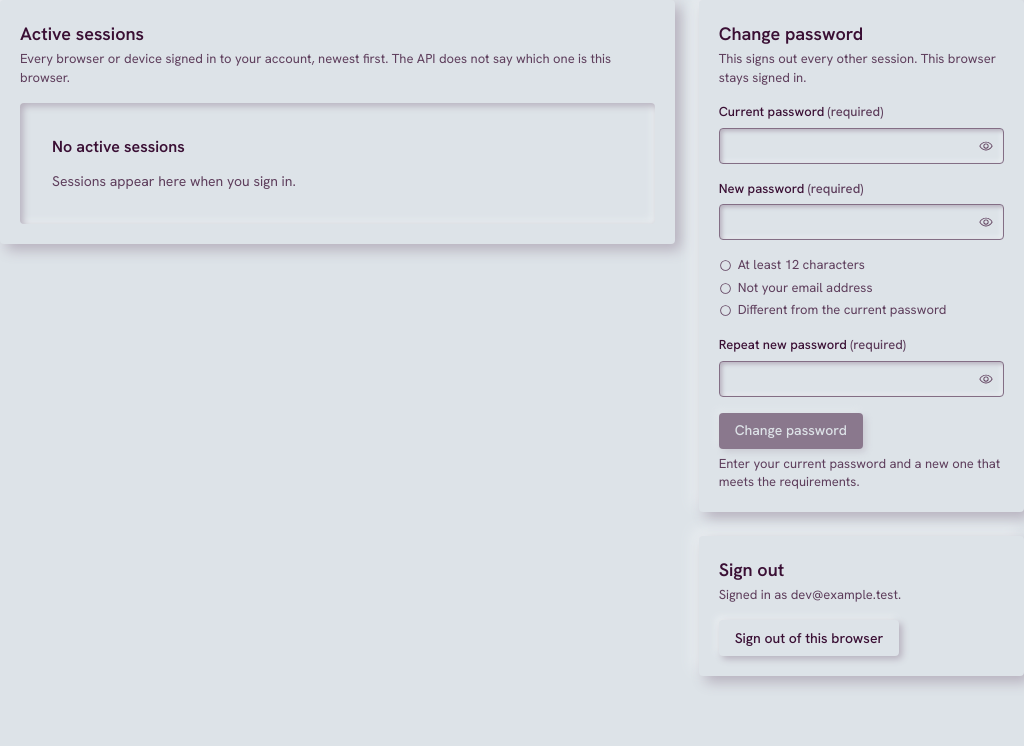
Change password › clears the fields and says other sessions ended on success
Type "old-password-1" into the password field labelled "Current password (required)" at point(861, 146), box [719, 128, 1004, 164]
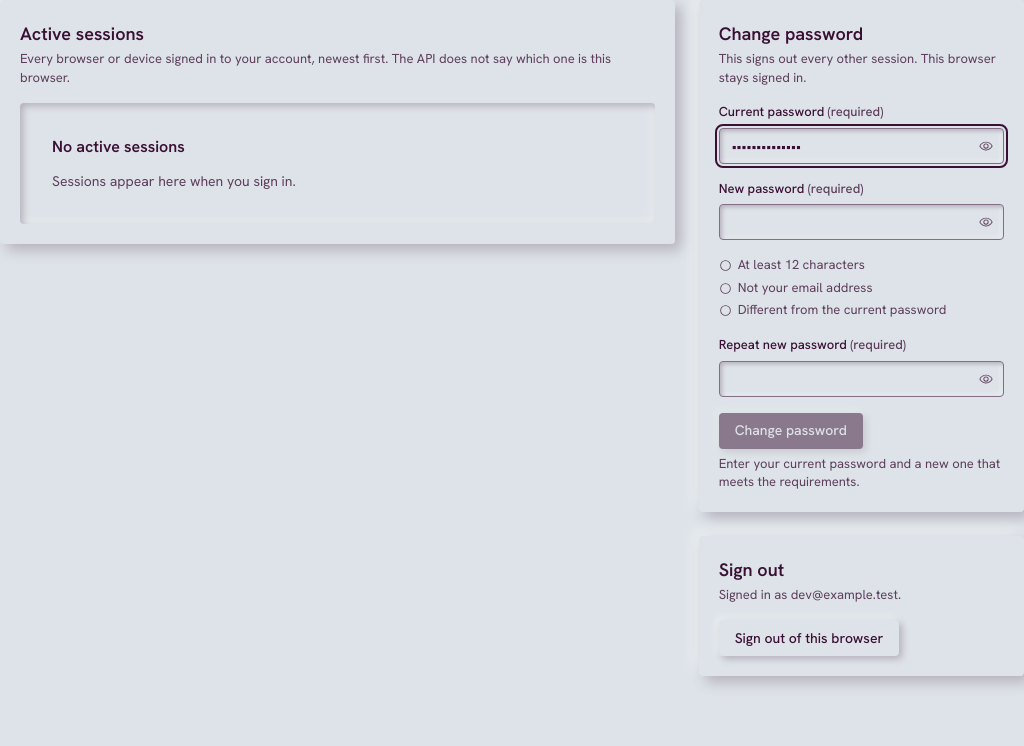
Type "a-new-password-12" into the password field labelled "New password (required)" at point(861, 222), box [719, 204, 1004, 240]
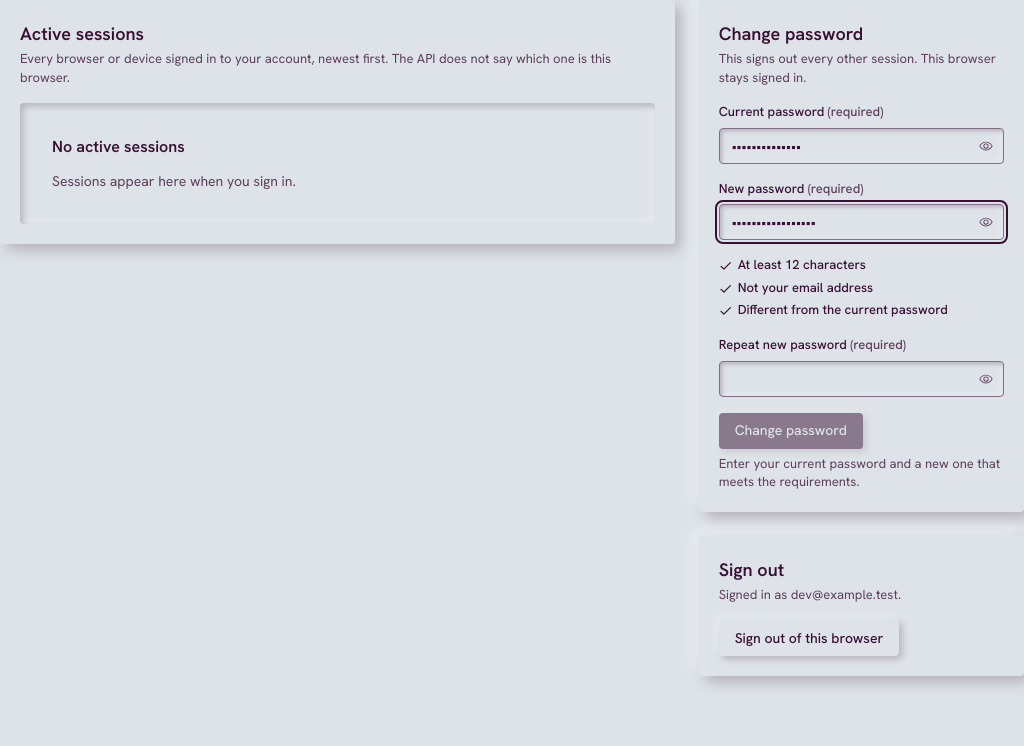
Type "a-new-password-12" into the password field labelled "Repeat new password (required)" at point(861, 378), box [719, 360, 1004, 396]
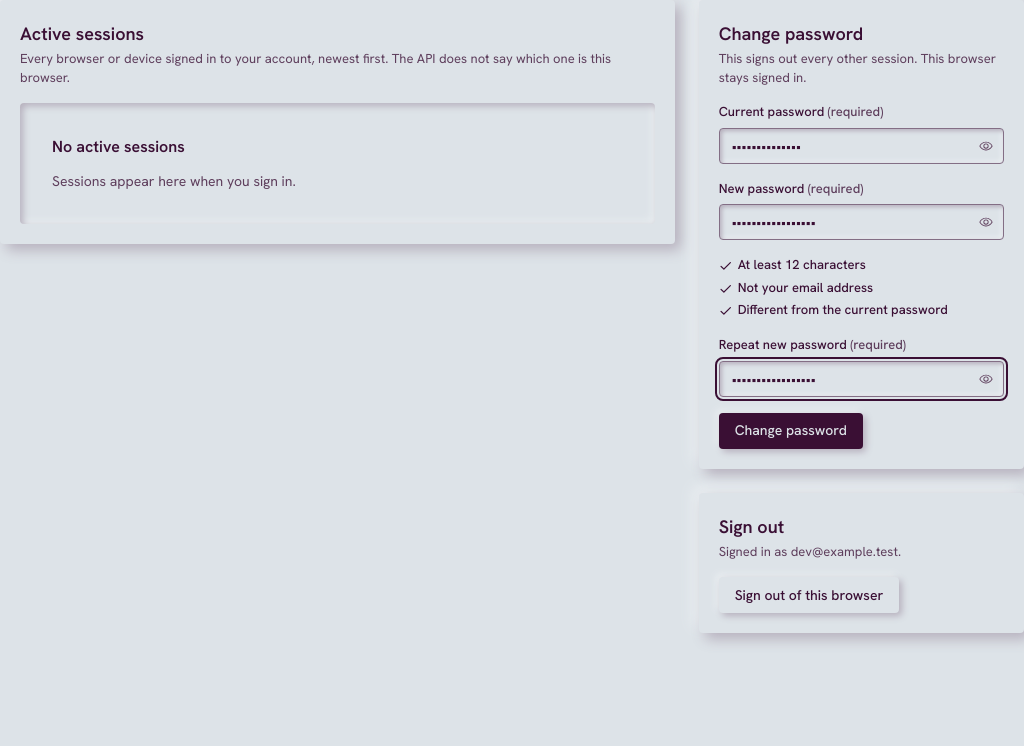
Click the button "Change password" at point(791, 430), box [719, 412, 863, 448]
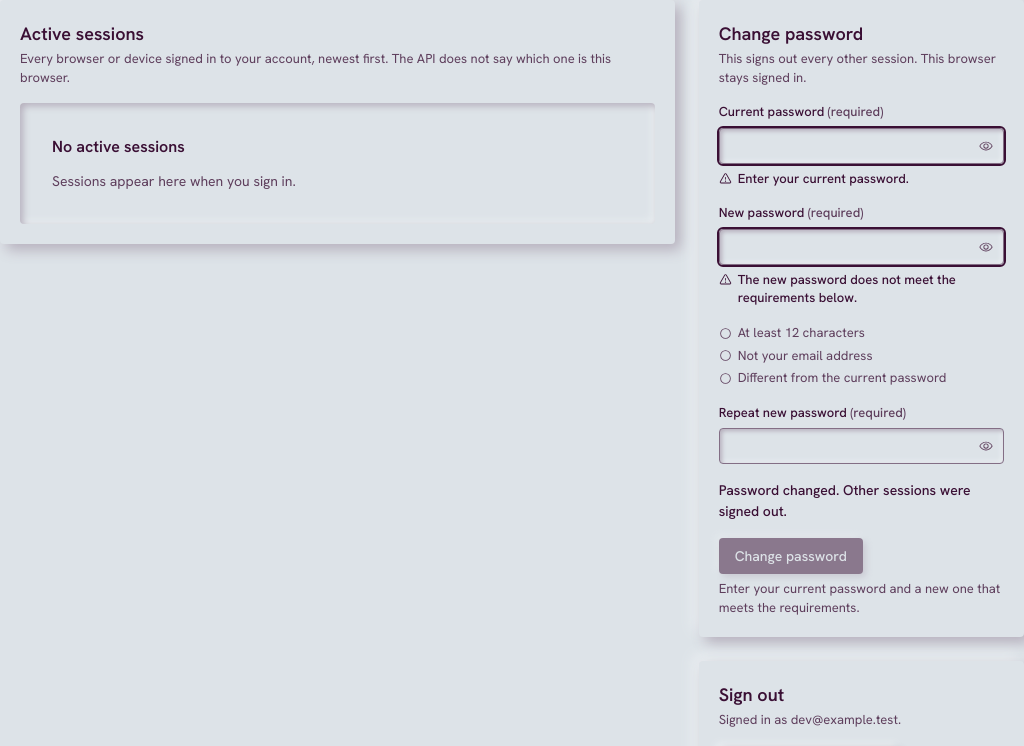
Expected: the text "Password changed. Other sessions were signed out." is shown, [719, 480, 1004, 522]
Expected: the password field labelled "Current password (required)" is empty, [719, 128, 1004, 164]
Expected: the password field labelled "New password (required)" is empty, [719, 229, 1004, 265]
